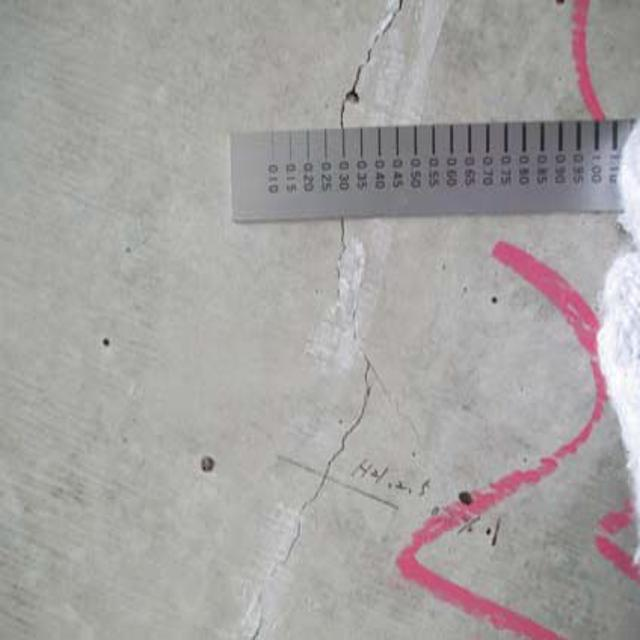crack: (264, 6, 413, 581)
